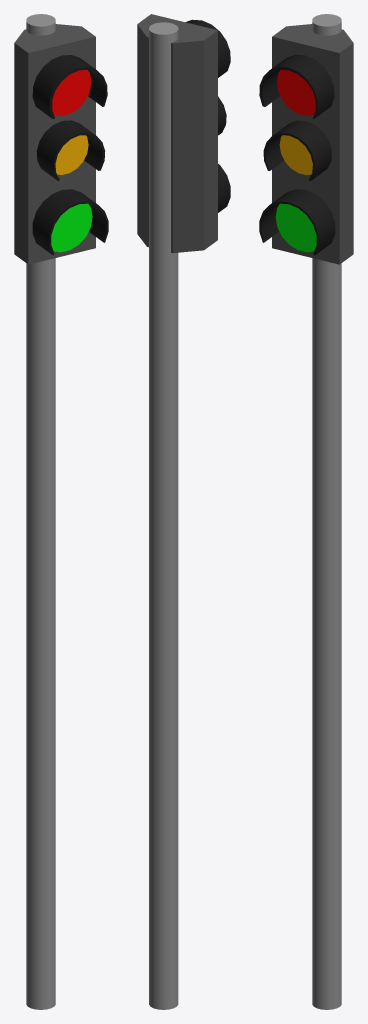
The model's file is TrafficLight.FBX.
3 renders of one model, left to right at view 1: azimuth 30°, elevation 25°; view 2: azimuth 150°, elevation 25°; view 3: azimuth 330°, elevation 25°, orthographic.
Visible parts, largest first — view 1: Pole, Traffic Light, Green, Red, Yellow; view 2: Pole, Traffic Light; view 3: Pole, Traffic Light, Green, Red, Yellow.
Part boxes in pixels (bbox=[...]): Pole: bbox=[26, 14, 55, 1009]; Traffic Light: bbox=[14, 24, 108, 264]; Green: bbox=[51, 203, 92, 252]; Red: bbox=[52, 70, 91, 115]; Yellow: bbox=[55, 135, 88, 174]; Pole: bbox=[149, 22, 178, 1009]; Traffic Light: bbox=[137, 14, 230, 253]; Pole: bbox=[312, 14, 341, 1009]; Traffic Light: bbox=[259, 24, 353, 264]; Green: bbox=[275, 203, 316, 252]; Red: bbox=[277, 70, 315, 115]; Yellow: bbox=[279, 135, 312, 175].
Bounding box in the file's own units: 0.1176 × 1.64 × 0.1375.
